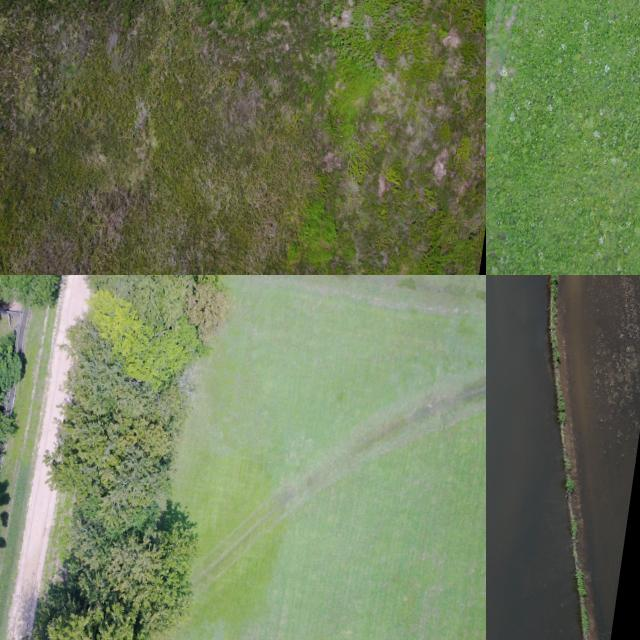fire: (486, 275, 582, 640)
